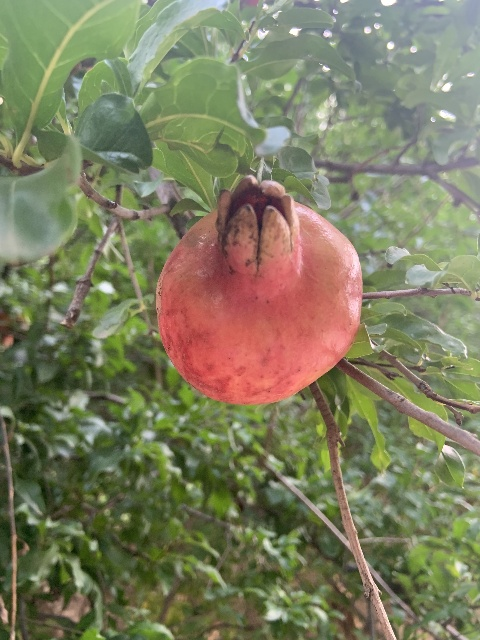ripe: (155, 177, 363, 404)
